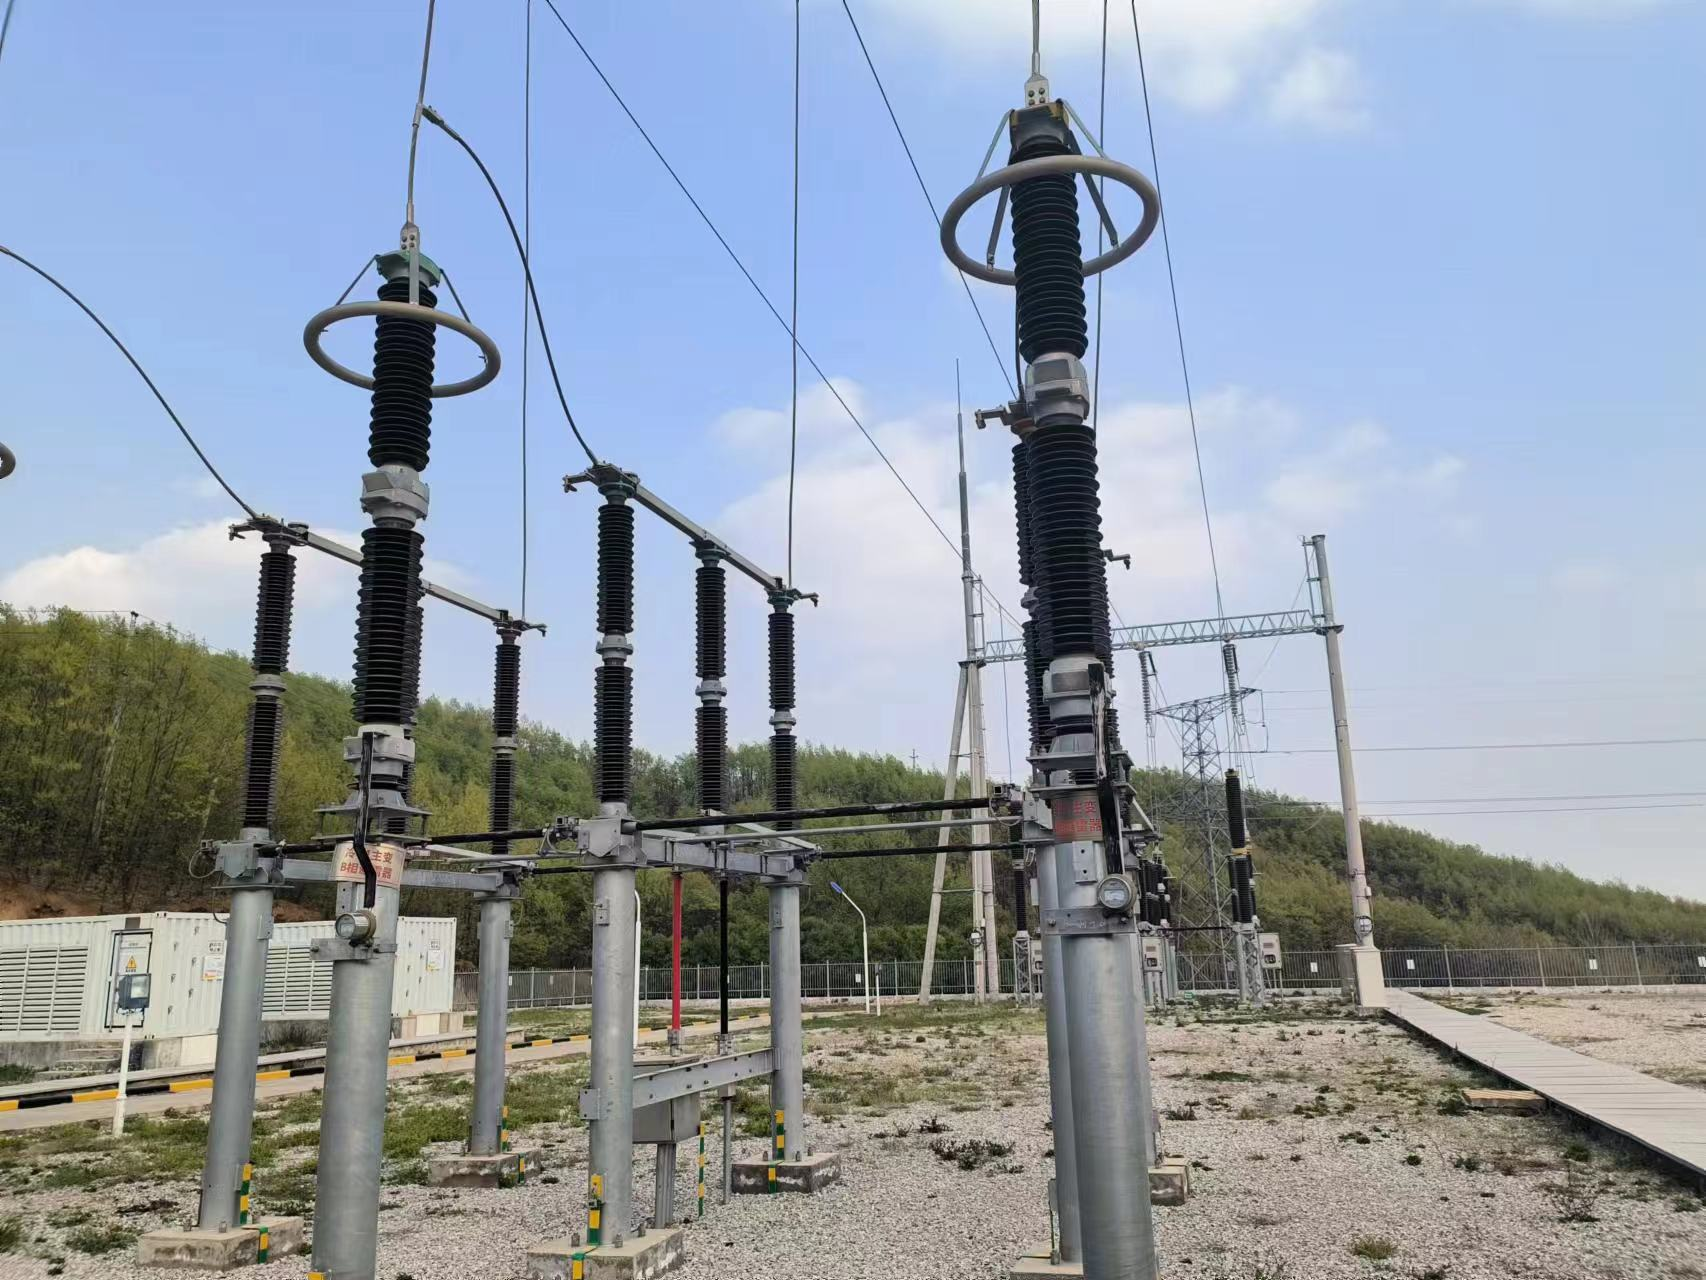Arrester: (936, 95, 1167, 791), (297, 235, 505, 799)
